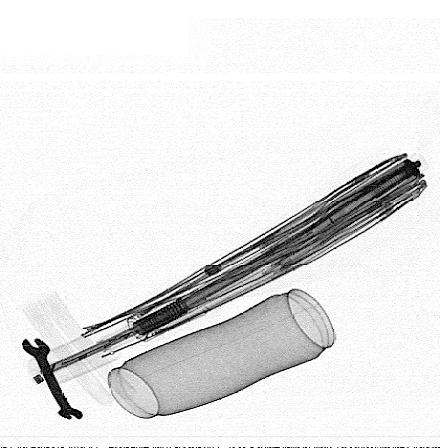Wrench: (22, 337, 83, 421)
